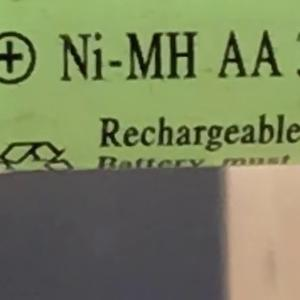NI-MH: (49, 22, 204, 91)
